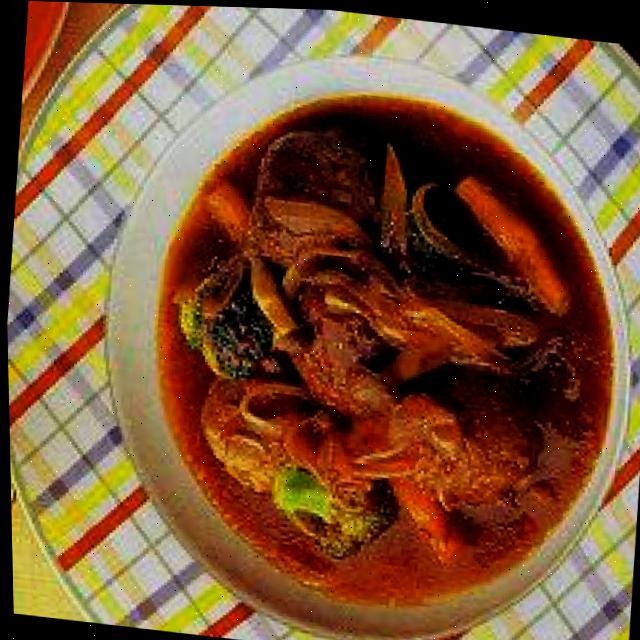汤锅炖物: (74, 27, 640, 640)
